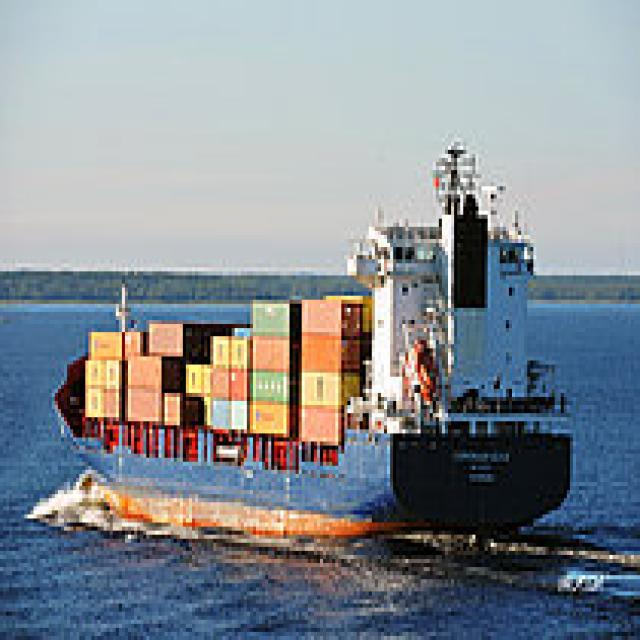Cargo: (46, 133, 576, 534)
